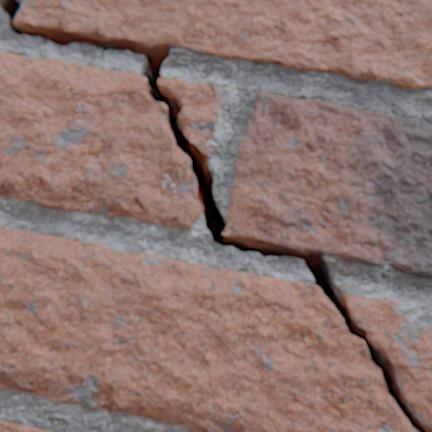brick: (223, 92, 431, 277), (15, 0, 431, 90), (0, 419, 51, 431)
broken_brick: (0, 227, 414, 431), (0, 53, 200, 230), (342, 293, 431, 424), (158, 78, 226, 162)
crack: (0, 0, 431, 431)
